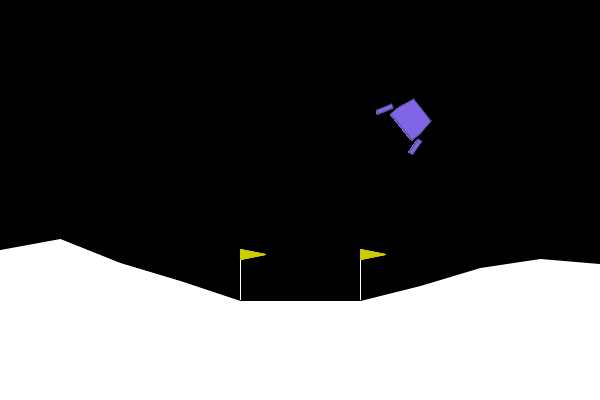lander: (374, 86, 443, 157)
